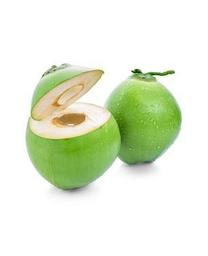coconut: (25, 63, 121, 191), (103, 70, 181, 167)
